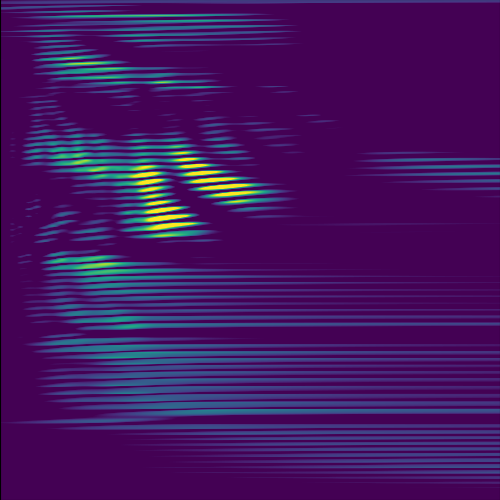semblance: (129, 158, 198, 241), (36, 48, 127, 77)
